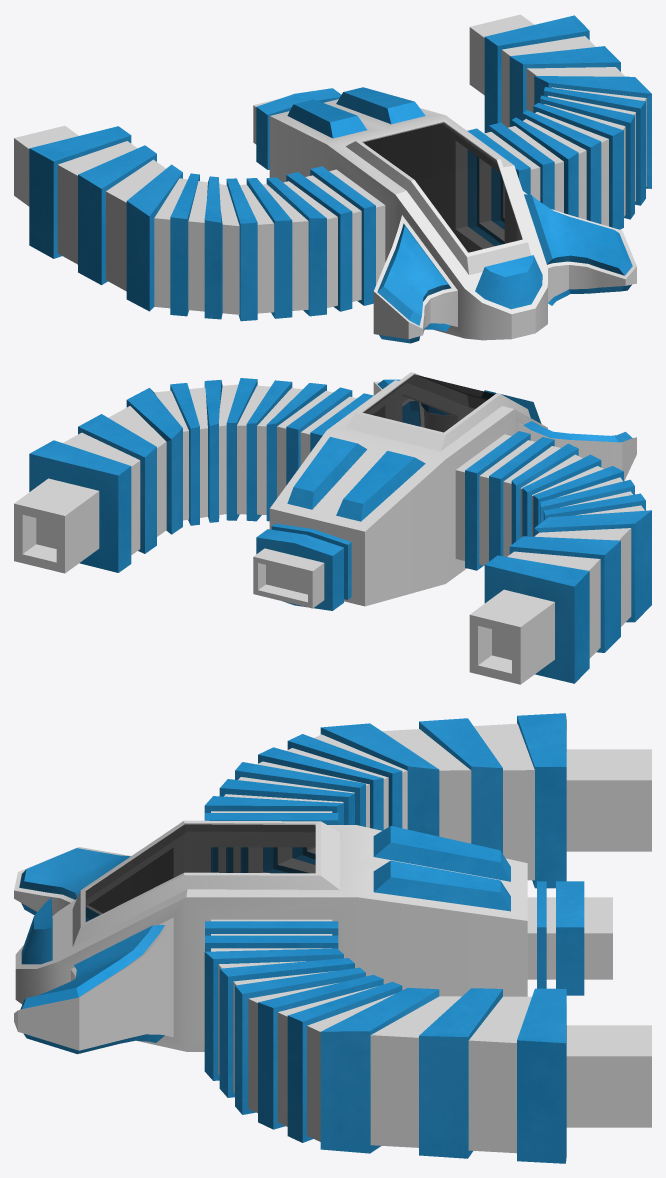
The model's file is Enemy1.fbx.
3 views of the same model, one above another, from view 1: azimuth 30°, elevation 25°; view 2: azimuth 150°, elevation 25°; view 3: azimuth 270°, elevation 25° (orthographic). The views are drawn at different scales.
Parts seen in each view (by area): view 1: Enemy1; view 2: Enemy1; view 3: Enemy1.
Boxes of the visible parts, left/top/right/bottom form: Enemy1: left=14, top=14, right=651, bottom=343; Enemy1: left=14, top=372, right=651, bottom=684; Enemy1: left=14, top=713, right=651, bottom=1163.
Bounding box in the file's own units: 9.16 × 2.17 × 7.48.
